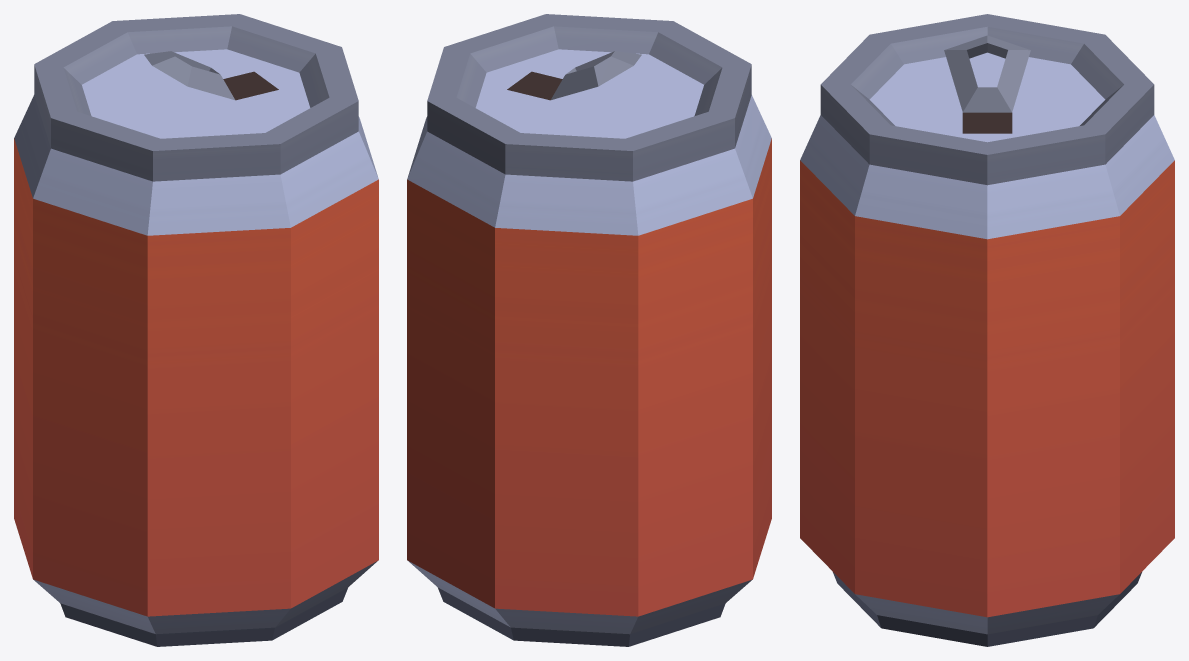
The model's file is DrinkCan.obj.
3 renders of one model, left to right at view 1: azimuth 30°, elevation 25°; view 2: azimuth 150°, elevation 25°; view 3: azimuth 270°, elevation 25°, orthographic.
Parts seen in each view (by area): view 1: soda_can; view 2: soda_can; view 3: soda_can.
Boxes of the visible parts, x1=… form: soda_can: x1=14, y1=14, x2=378, y2=646; soda_can: x1=407, y1=14, x2=771, y2=646; soda_can: x1=800, y1=14, x2=1174, y2=646.
Bounding box in the file's own units: 0.0786 × 0.1227 × 0.0786.
1 material, 1 textured.
